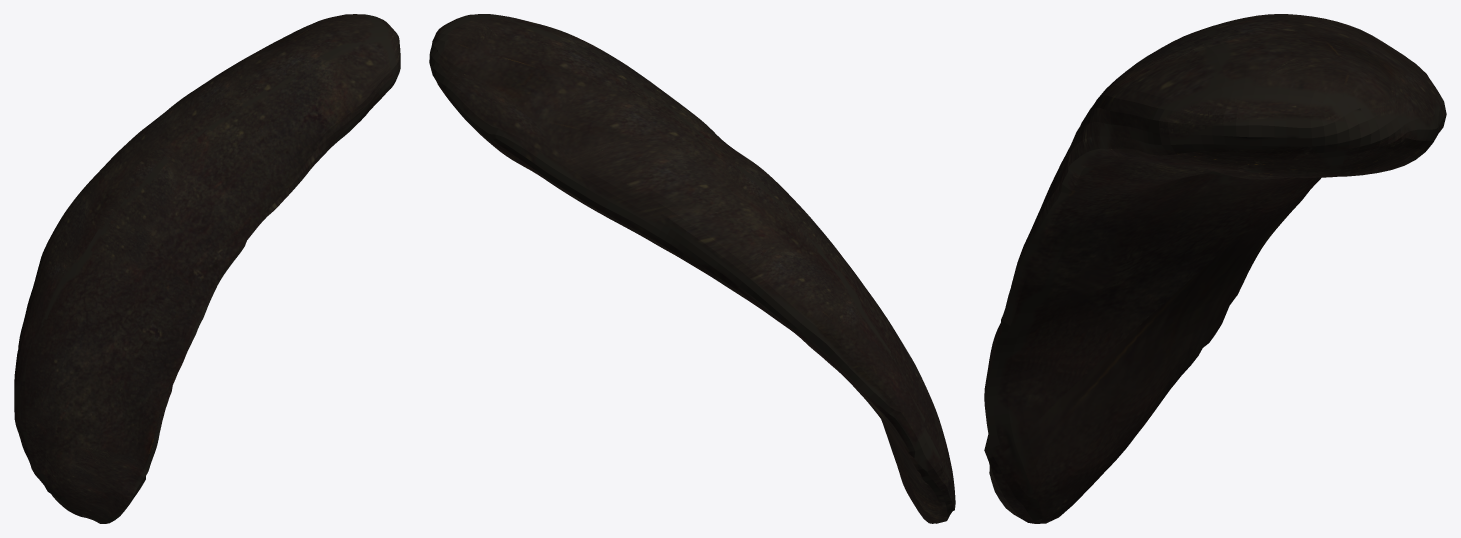
File: Milz.glb
3 views of the same model, side by side, from view 1: azimuth 30°, elevation 25°; view 2: azimuth 150°, elevation 25°; view 3: azimuth 270°, elevation 25° (orthographic). The views are drawn at different scales.
Parts seen in each view (by area): view 1: 16 1.5k Milz; view 2: 16 1.5k Milz; view 3: 16 1.5k Milz.
Part boxes in pixels (x1,y1,x2,y2): 16 1.5k Milz: (14, 14, 400, 523); 16 1.5k Milz: (429, 14, 955, 523); 16 1.5k Milz: (984, 14, 1446, 523).
Size of the model in its own units: 83.95 by 76.98 by 42.51.
Materials: 1 (1 with a texture image).
